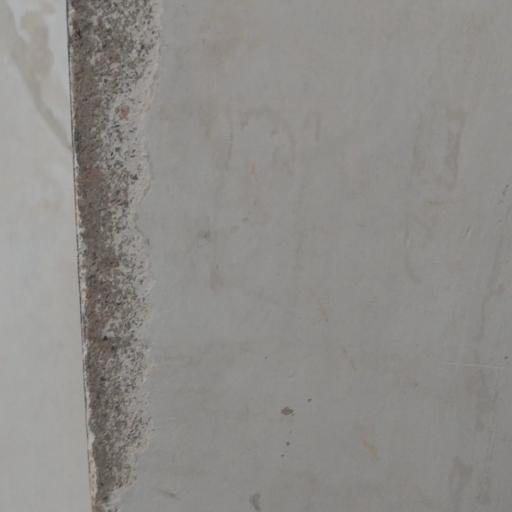peeling: (31, 0, 158, 512)
